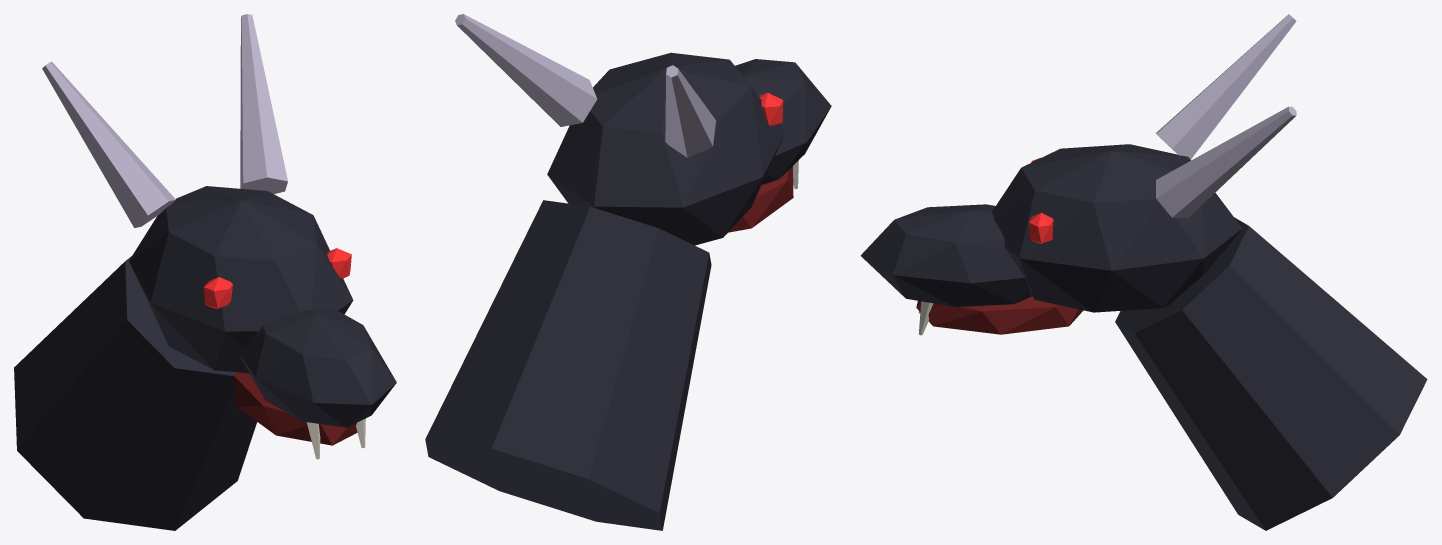
The model's file is dragon_1_head.glb.
The picture shows the model from 3 angles, left to right: view 1: azimuth 30°, elevation 25°; view 2: azimuth 150°, elevation 25°; view 3: azimuth 270°, elevation 25°; orthographic projection. The views are drawn at different scales.
Visible parts, largest first — view 1: dragon_1_head; view 2: dragon_1_head; view 3: dragon_1_head.
Boxes of the visible parts, left/top/right/bottom form: dragon_1_head: left=14, top=14, right=396, bottom=530; dragon_1_head: left=425, top=14, right=831, bottom=530; dragon_1_head: left=860, top=14, right=1427, bottom=530.
Size of the model in its own units: 0.48 by 0.9975 by 1.13.
